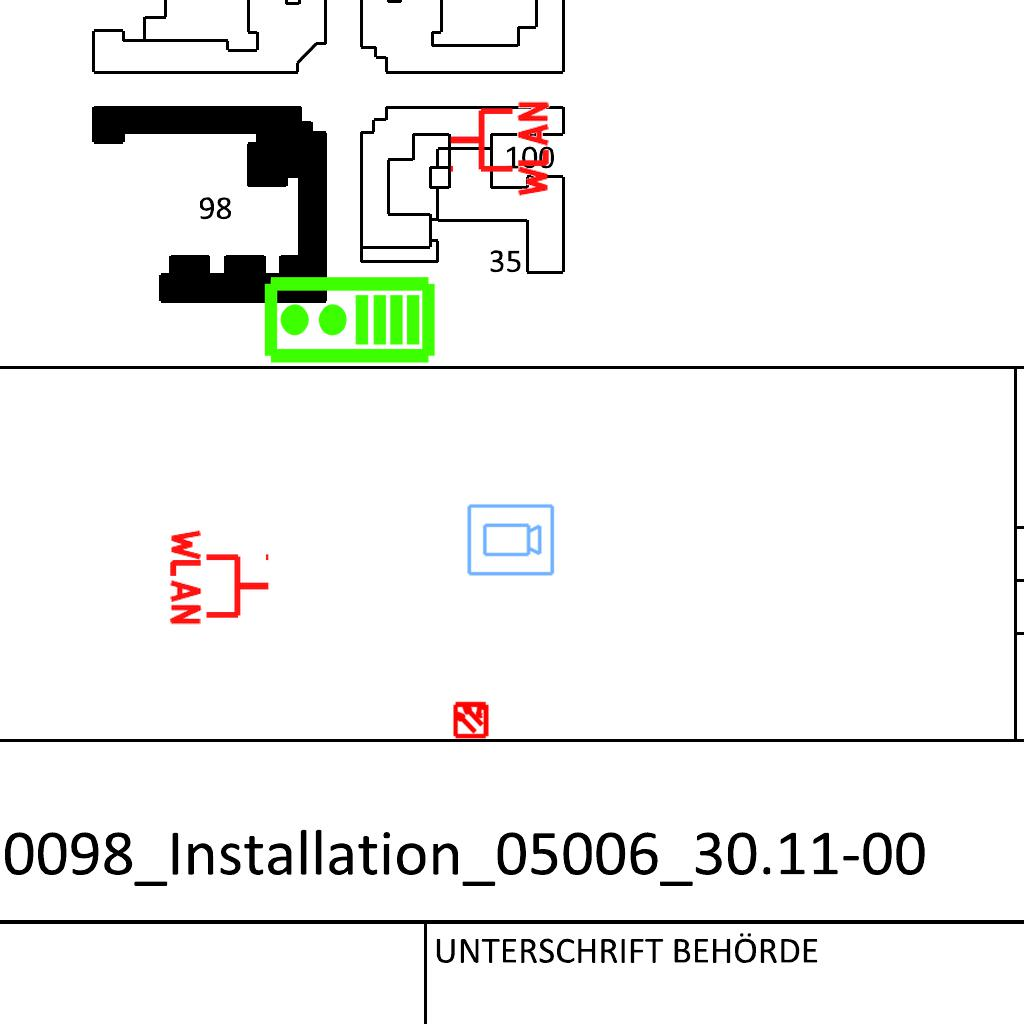Gegensprechanlage_mit_Video: (261, 274, 437, 369)
KFO_Kamera_mit_Festobjektiv: (465, 502, 556, 579)
OT_Multisensormelder_(Kombination_RMO_WMD): (443, 691, 499, 747)
WLAN: (446, 97, 551, 201), (168, 525, 273, 629)
